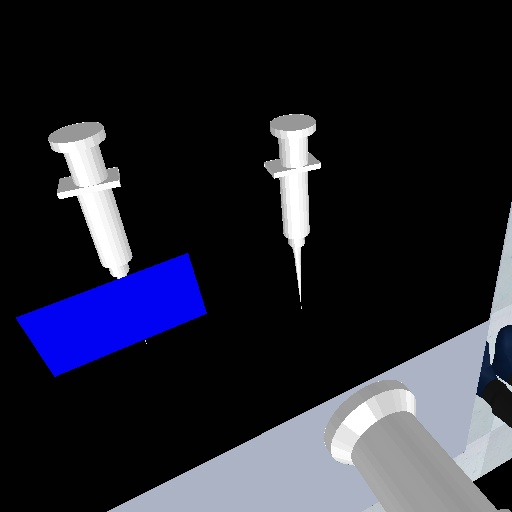jeringuilla: (40, 117, 136, 283), (259, 108, 325, 313)
